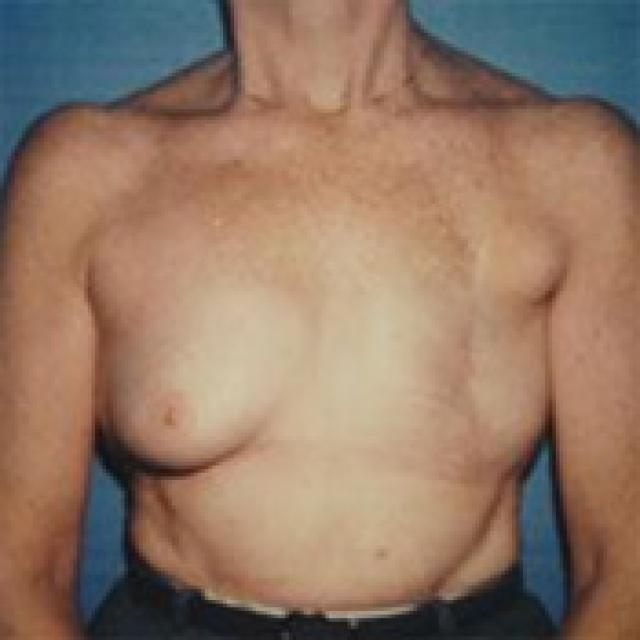Seno herido: (316, 268, 555, 476)
Seno ileso: (86, 268, 303, 502)
